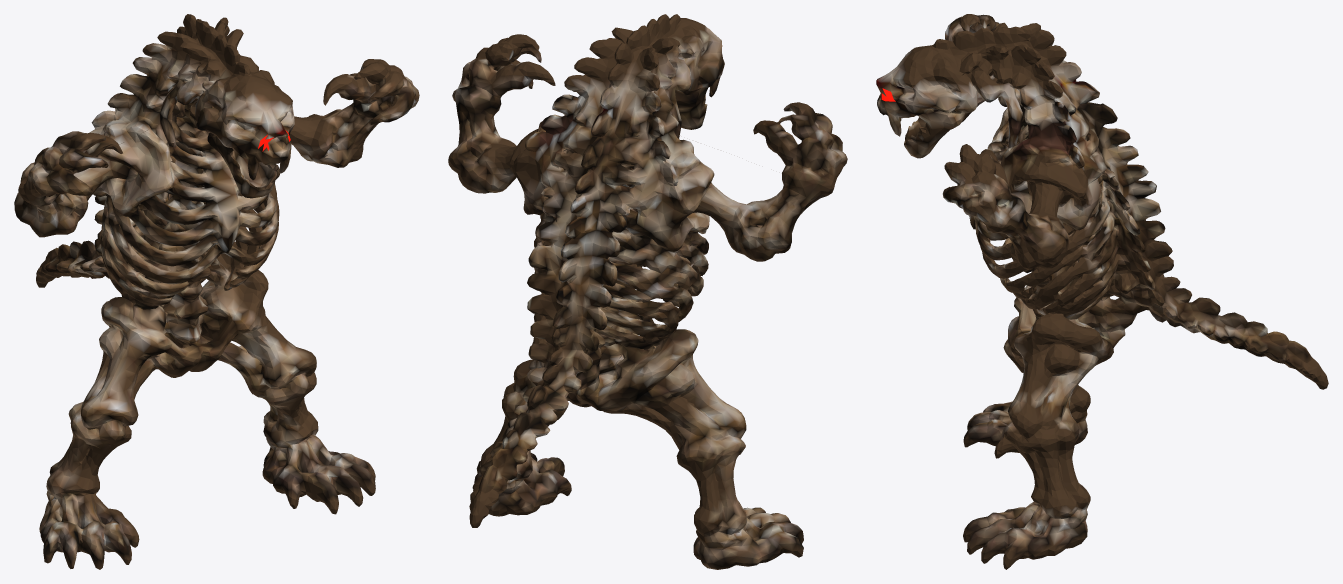
Rendered from esqueleto_animal_grande.glb.
3 renders of one model, left to right at view 1: azimuth 30°, elevation 25°; view 2: azimuth 150°, elevation 25°; view 3: azimuth 270°, elevation 25°, orthographic. The views are drawn at different scales.
Parts seen in each view (by area): view 1: tmp91xwl4x7.ply; view 2: tmp91xwl4x7.ply; view 3: tmp91xwl4x7.ply.
Part boxes in pixels (x1=…): tmp91xwl4x7.ply: x1=14, y1=14, x2=419, y2=569; tmp91xwl4x7.ply: x1=448, y1=14, x2=847, y2=569; tmp91xwl4x7.ply: x1=876, y1=14, x2=1328, y2=569.
Size of the model in its own units: 1.59 by 1.96 by 1.71.
